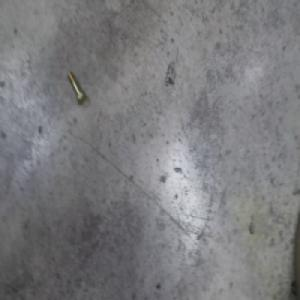Bolt: (67, 69, 87, 105)
